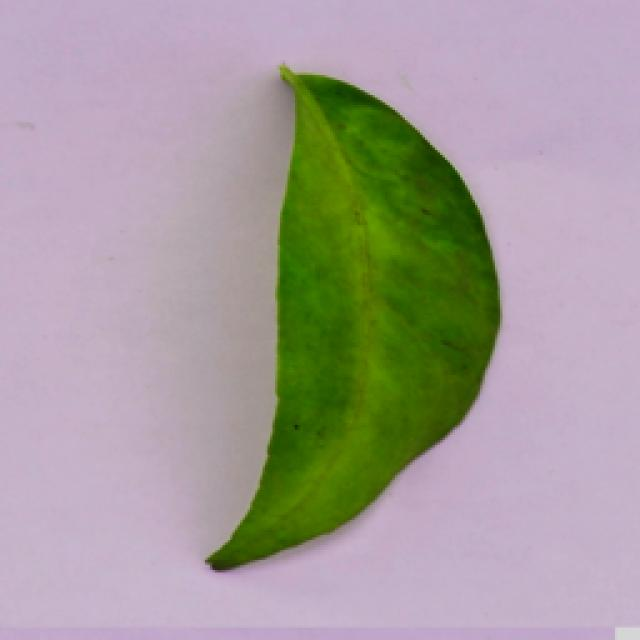blackspot: (192, 57, 540, 580)
